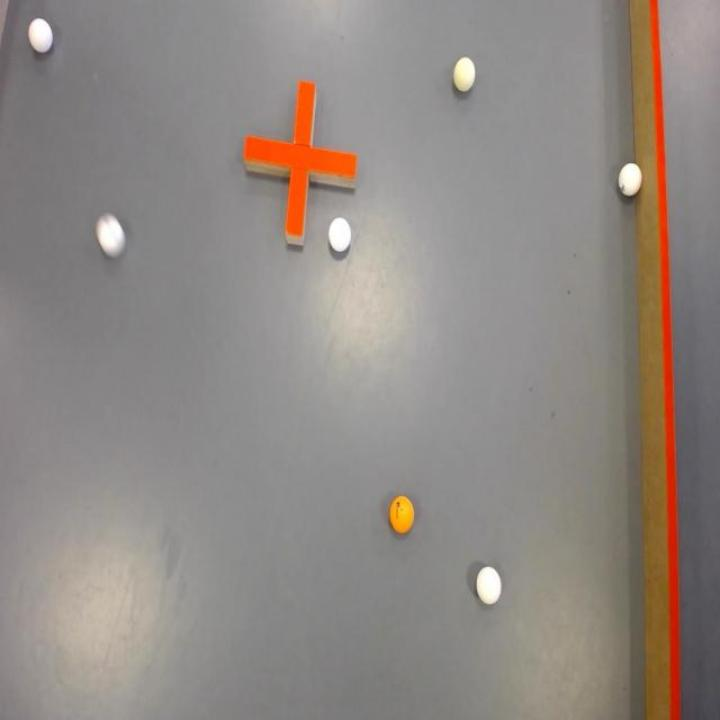orange: (388, 495, 416, 535)
white: (95, 214, 127, 257), (474, 564, 505, 605), (616, 160, 642, 201), (328, 215, 353, 255), (452, 56, 477, 94), (29, 15, 52, 56)
